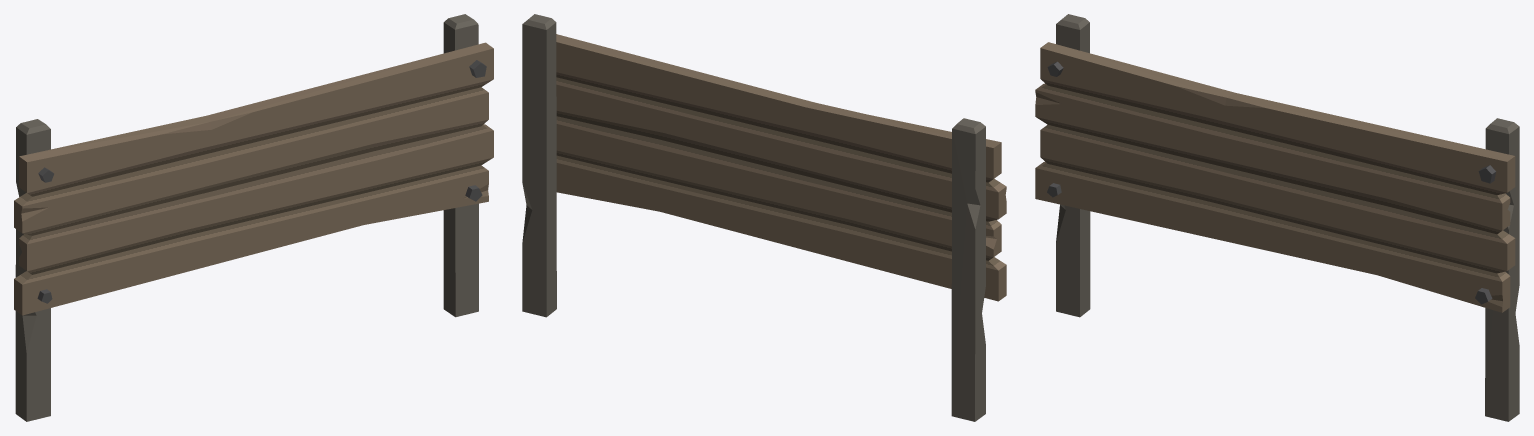
The model's file is SM_Bld_Village_Fence_01.glb.
The picture shows the model from 3 angles, left to right: view 1: azimuth 30°, elevation 25°; view 2: azimuth 150°, elevation 25°; view 3: azimuth 330°, elevation 25°; orthographic projection.
Parts seen in each view (by area): view 1: SM_Bld_Village_Fence_01; view 2: SM_Bld_Village_Fence_01; view 3: SM_Bld_Village_Fence_01.
Boxes of the visible parts, left/top/right/bottom form: SM_Bld_Village_Fence_01: left=14, top=14, right=493, bottom=421; SM_Bld_Village_Fence_01: left=522, top=14, right=1006, bottom=421; SM_Bld_Village_Fence_01: left=1035, top=14, right=1519, bottom=421.
Size of the model in its own units: 2.91 by 1.72 by 0.2483.
1 material, 1 textured.
